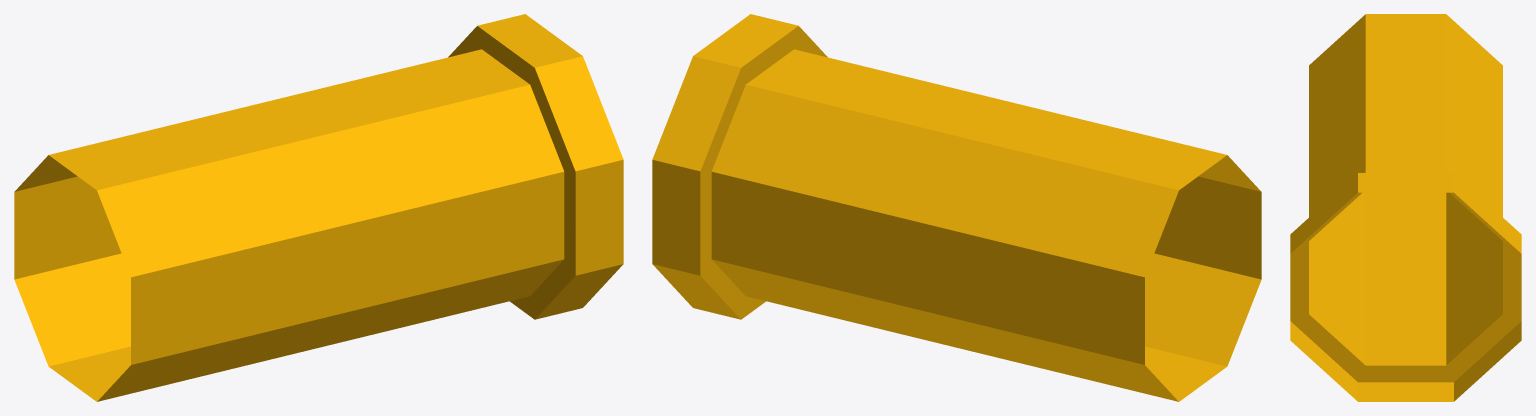
File: pipe_flangeless_side.dae
3 views of the same model, side by side, from view 1: azimuth 30°, elevation 25°; view 2: azimuth 150°, elevation 25°; view 3: azimuth 270°, elevation 25° (orthographic). The views are drawn at different scales.
Visible parts, largest first — view 1: Cube; view 2: Cube; view 3: Cube.
Boxes of the visible parts, x1,y1,x2,y2 form: Cube: [14, 14, 623, 401]; Cube: [652, 14, 1261, 401]; Cube: [1290, 14, 1521, 401].
Size of the model in its own units: 0.25 by 0.125 by 0.125.
